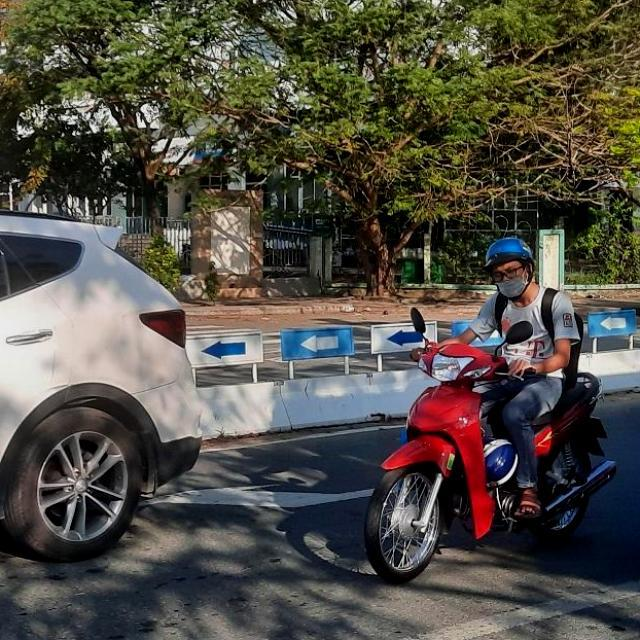Helmet: (485, 232, 538, 297)
